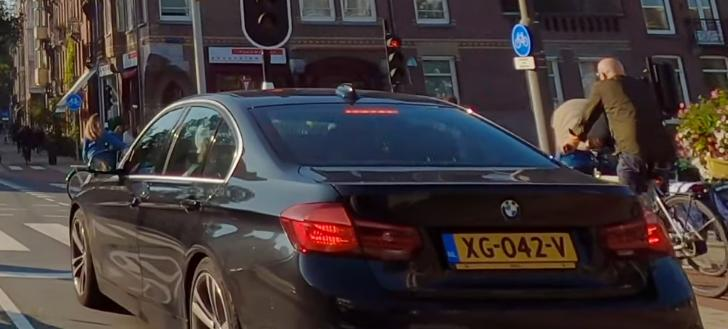license-plate: (443, 232, 581, 271)
